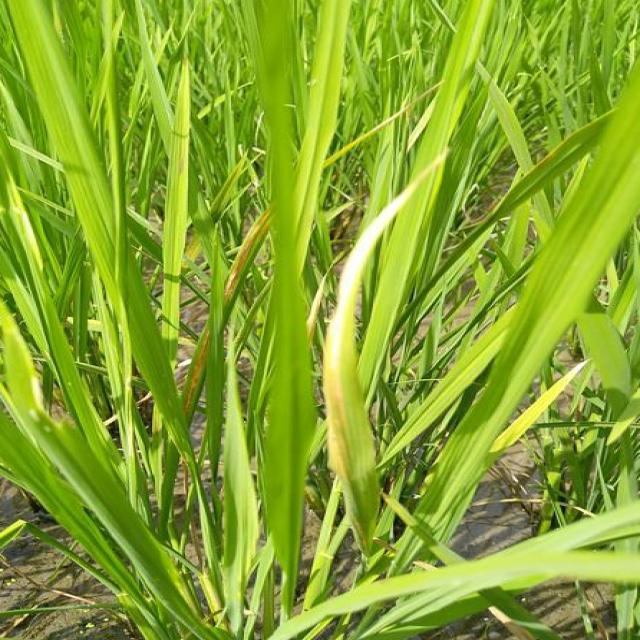Leaf Blight: (320, 166, 438, 539), (225, 210, 268, 306), (184, 318, 208, 421)
